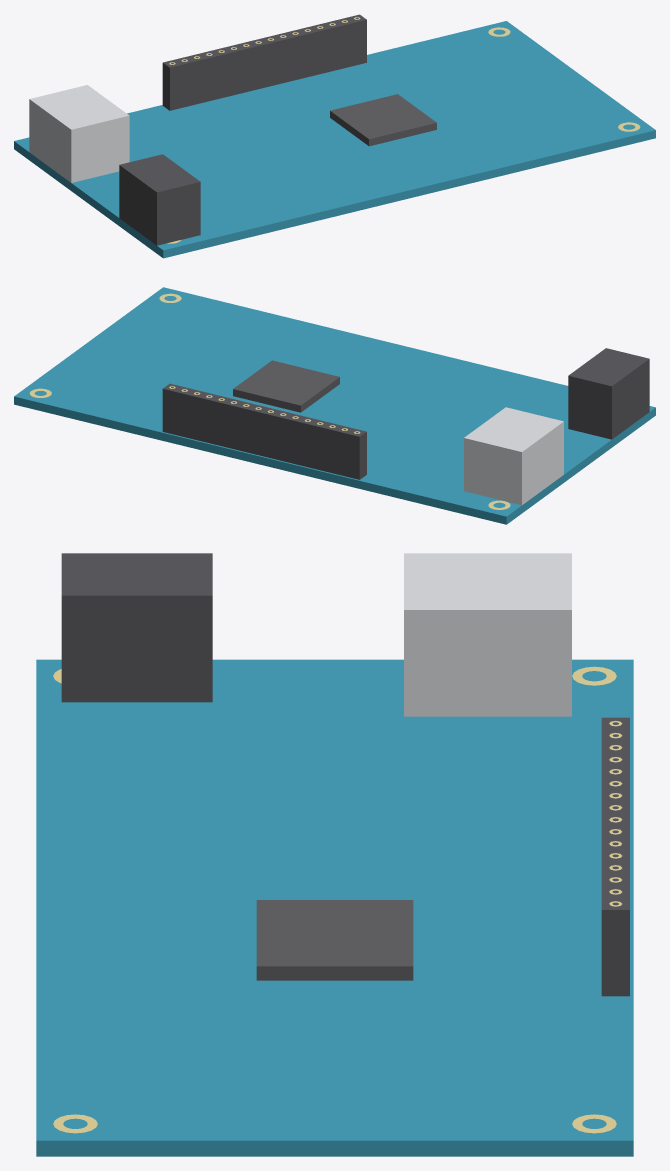
Rendered from arduino-mega-2560.glb.
3 views of the same model, one above another, from view 1: azimuth 30°, elevation 25°; view 2: azimuth 150°, elevation 25°; view 3: azimuth 270°, elevation 25° (orthographic). The views are drawn at different scales.
Parts seen in each view (by area): view 1: arduino-mega-2560-pcb, arduino-mega-2560-plastic, arduino-mega-2560-metal, arduino-mega-2560-ic; view 2: arduino-mega-2560-pcb, arduino-mega-2560-plastic, arduino-mega-2560-metal, arduino-mega-2560-ic, arduino-mega-2560-mounting-pads; view 3: arduino-mega-2560-pcb, arduino-mega-2560-plastic, arduino-mega-2560-metal, arduino-mega-2560-ic, arduino-mega-2560-mounting-pads, arduino-mega-2560-pins.
Boxes of the visible parts, bbox=[...] form: arduino-mega-2560-pcb: bbox=[14, 21, 655, 258]; arduino-mega-2560-plastic: bbox=[119, 14, 366, 245]; arduino-mega-2560-metal: bbox=[29, 85, 129, 182]; arduino-mega-2560-ic: bbox=[330, 94, 436, 146]; arduino-mega-2560-pcb: bbox=[14, 287, 655, 524]; arduino-mega-2560-plastic: bbox=[162, 348, 649, 479]; arduino-mega-2560-metal: bbox=[464, 407, 563, 505]; arduino-mega-2560-ic: bbox=[233, 360, 339, 412]; arduino-mega-2560-mounting-pads: bbox=[29, 293, 510, 509]; arduino-mega-2560-pcb: bbox=[36, 659, 633, 1156]; arduino-mega-2560-plastic: bbox=[61, 553, 629, 996]; arduino-mega-2560-metal: bbox=[404, 553, 571, 716]; arduino-mega-2560-ic: bbox=[256, 900, 413, 980]; arduino-mega-2560-mounting-pads: bbox=[53, 666, 616, 1133]; arduino-mega-2560-pins: bbox=[609, 721, 622, 906].
Size of the model in its own units: 0.1016 by 0.0121 by 0.0533.
